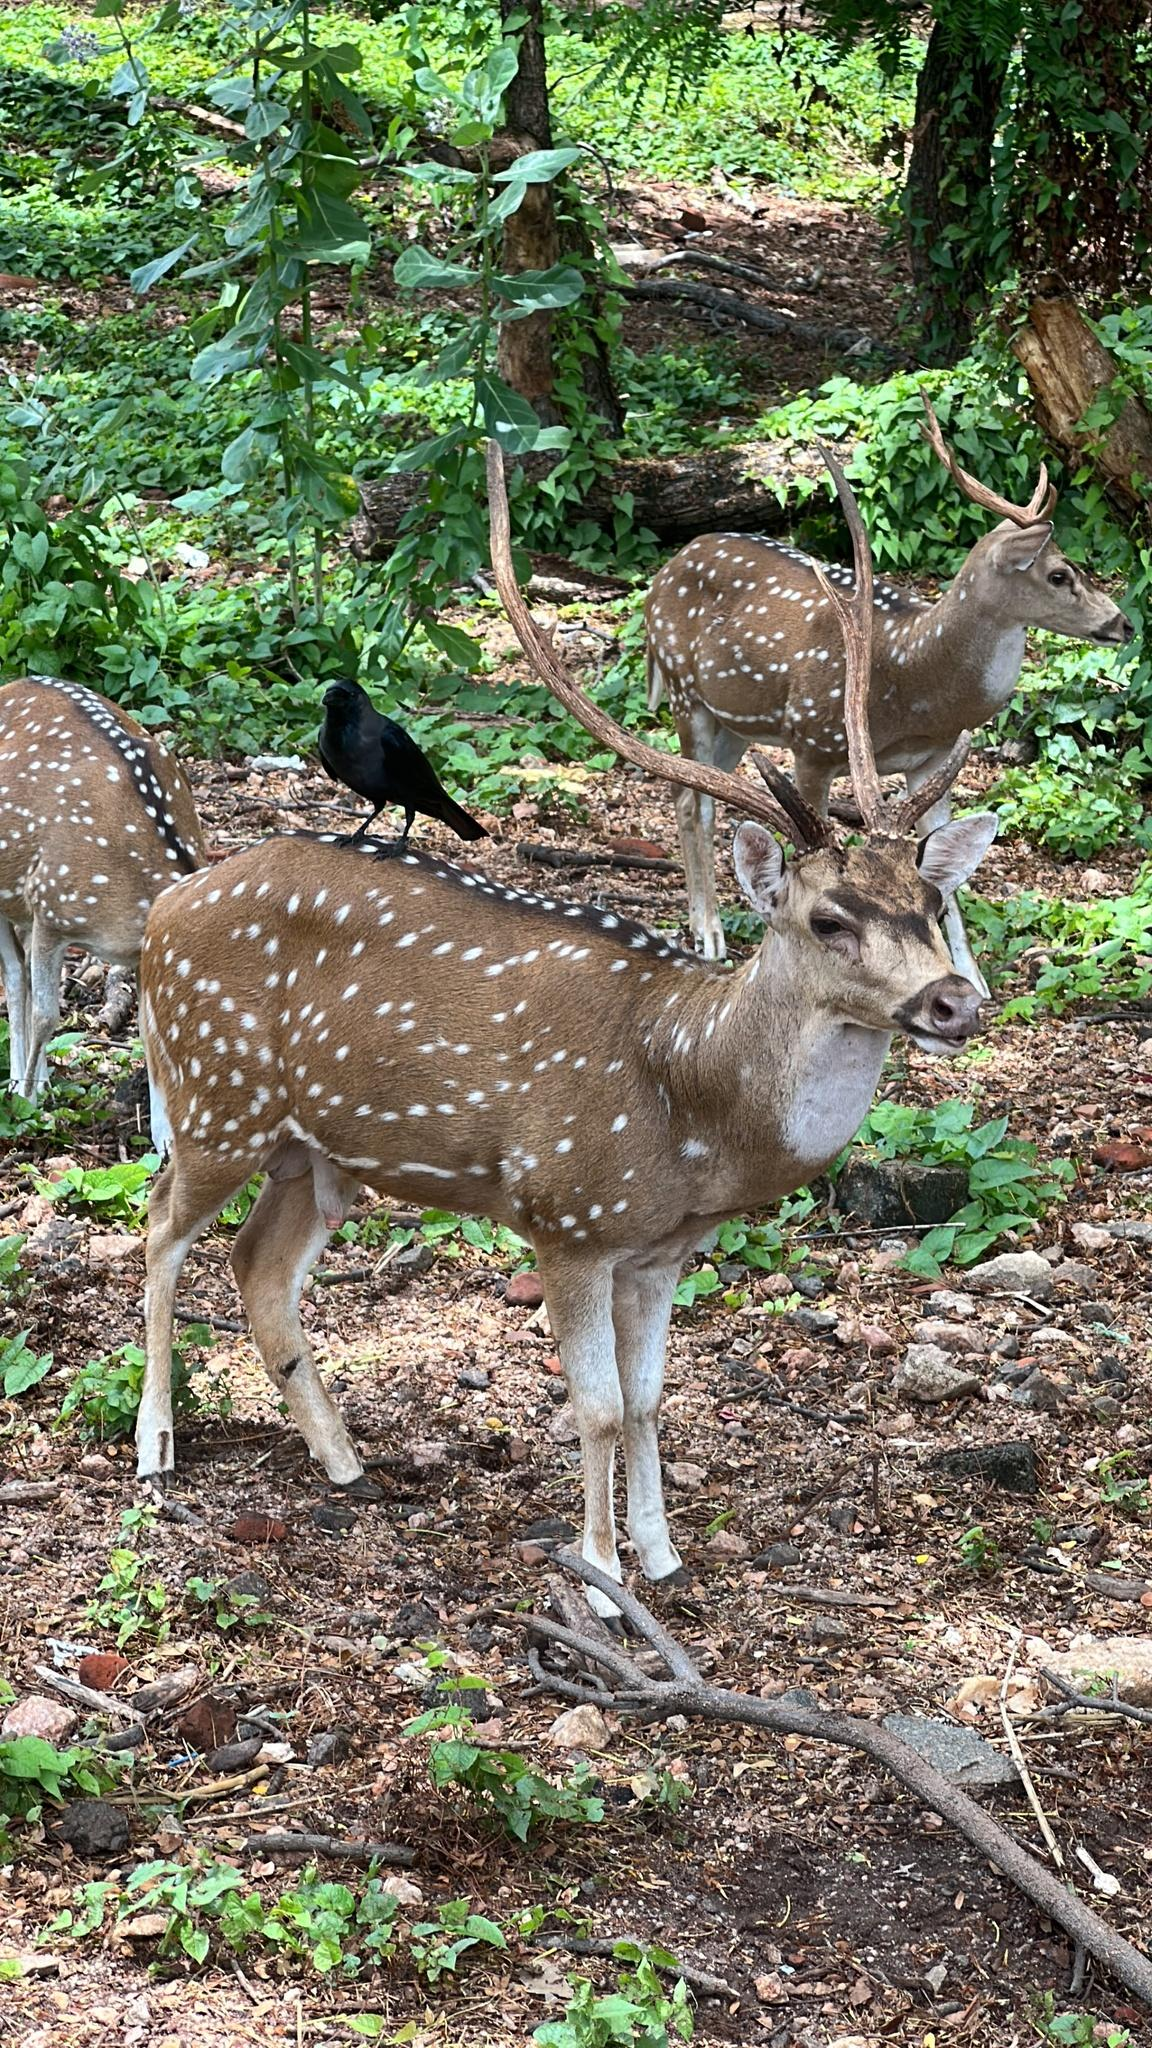Deer: (141, 450, 996, 1580), (644, 383, 1132, 816)
